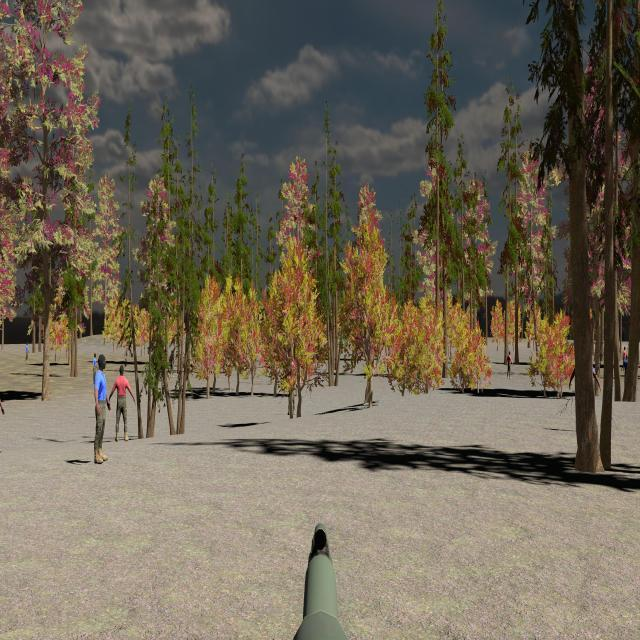Human: (108, 364, 137, 442), (94, 356, 111, 461), (0, 375, 5, 455)
